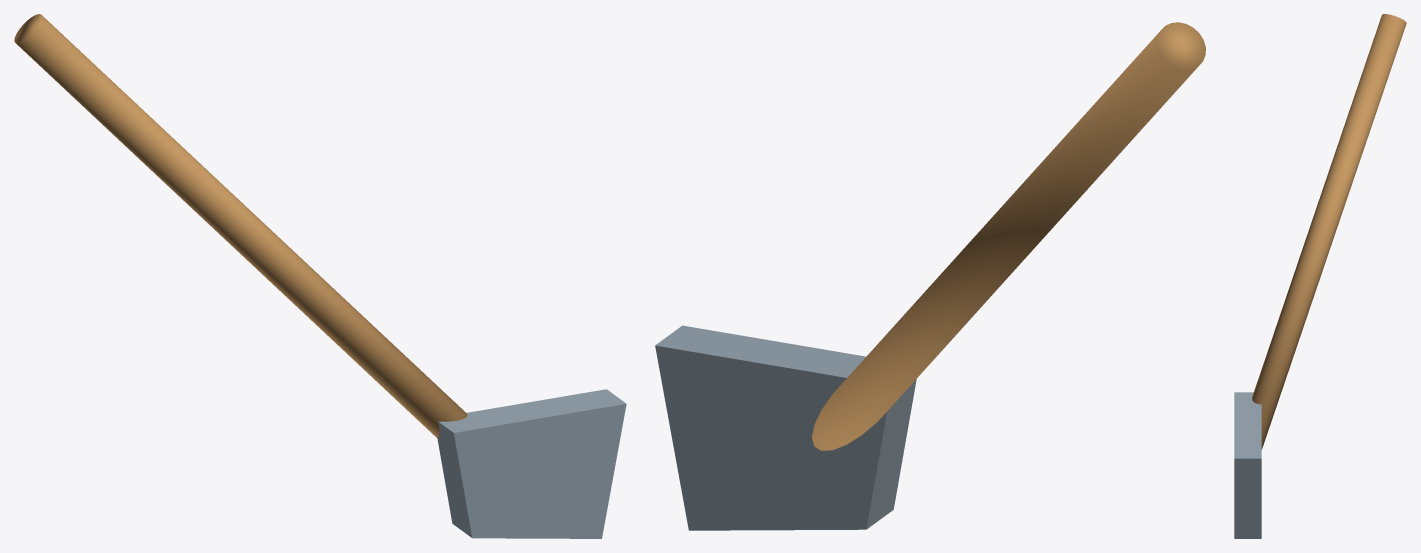
Rendered from houthakker_hakken_gereedschap.glb.
The picture shows the model from 3 angles, left to right: view 1: azimuth 30°, elevation 25°; view 2: azimuth 150°, elevation 25°; view 3: azimuth 270°, elevation 25°; orthographic projection. The views are drawn at different scales.
Visible parts, largest first — view 1: Axe_working_head, Axe_wooden_haft; view 2: Axe_working_head, Axe_wooden_haft; view 3: Axe_wooden_haft, Axe_working_head.
Boxes of the visible parts, x1=… form: Axe_working_head: x1=437, y1=389, x2=626, y2=538; Axe_wooden_haft: x1=14, y1=14, x2=467, y2=437; Axe_working_head: x1=655, y1=325, x2=916, y2=530; Axe_wooden_haft: x1=812, y1=22, x2=1205, y2=450; Axe_wooden_haft: x1=1252, y1=14, x2=1406, y2=449; Axe_working_head: x1=1234, y1=392, x2=1261, y2=538.
Bounding box in the file's own units: 0.8013 × 0.8486 × 0.3536.
